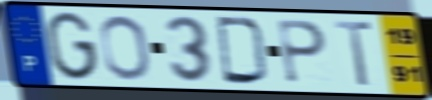3: (163, 14, 215, 84)
D: (213, 14, 271, 87)
G: (45, 10, 100, 83)
O: (97, 13, 154, 82)
P: (276, 17, 329, 86)
T: (333, 19, 376, 89)
